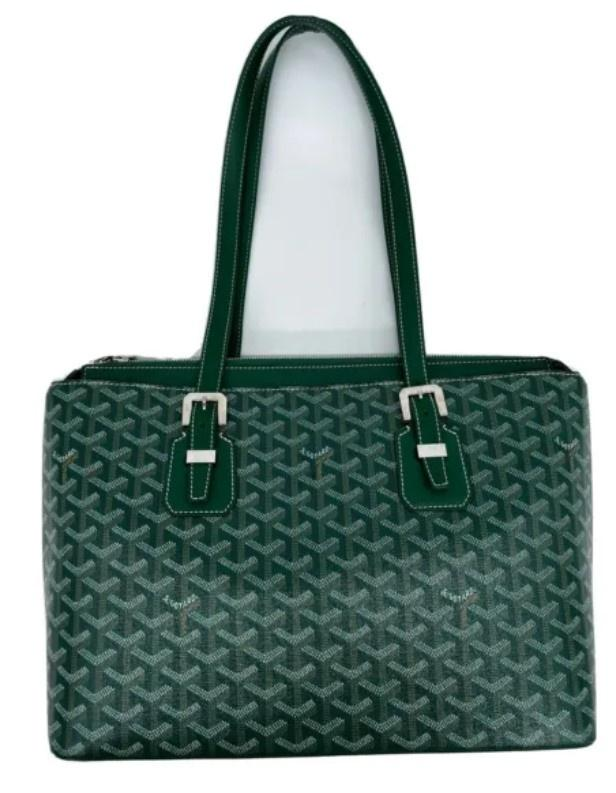GOYARD: (45, 372, 597, 761)
